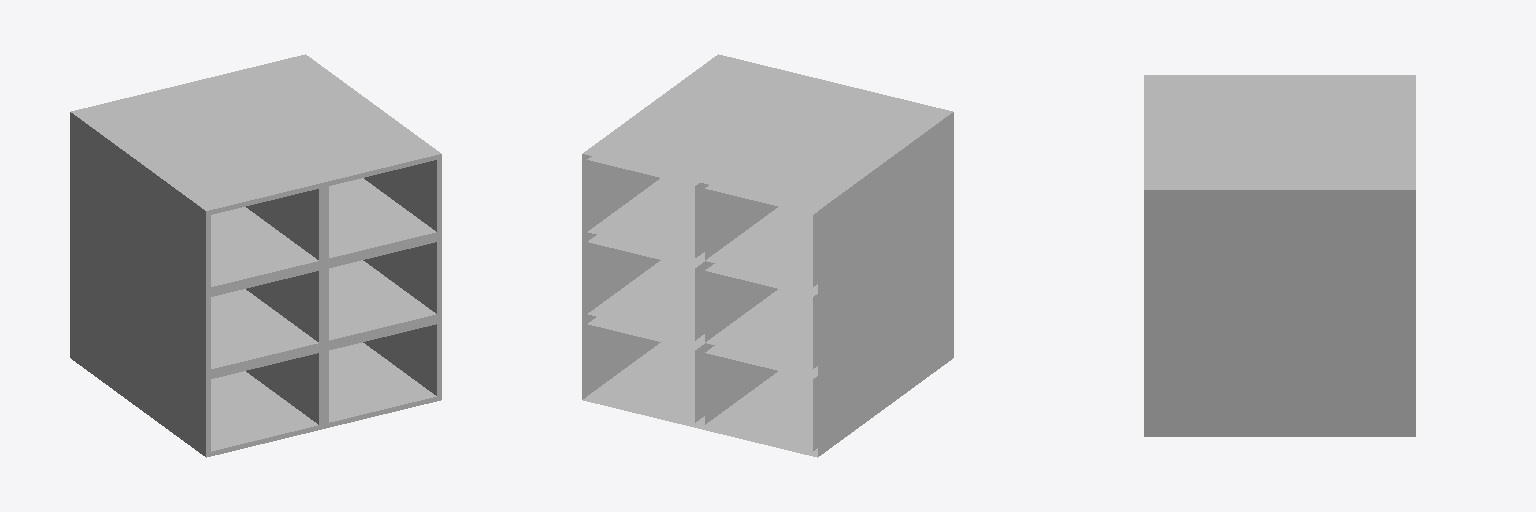
Rendered from Closet.obj.
The picture shows the model from 3 angles: view 1: azimuth 30°, elevation 25°; view 2: azimuth 150°, elevation 25°; view 3: azimuth 270°, elevation 25°; orthographic projection.
Visible parts, largest first — view 1: Box001; view 2: Box001; view 3: Box001.
Part boxes in pixels (x1,y1,x2,y2): Box001: (70, 54, 441, 457); Box001: (582, 54, 953, 457); Box001: (1144, 75, 1415, 436).
Bounding box in the file's own units: 100 × 100 × 100.